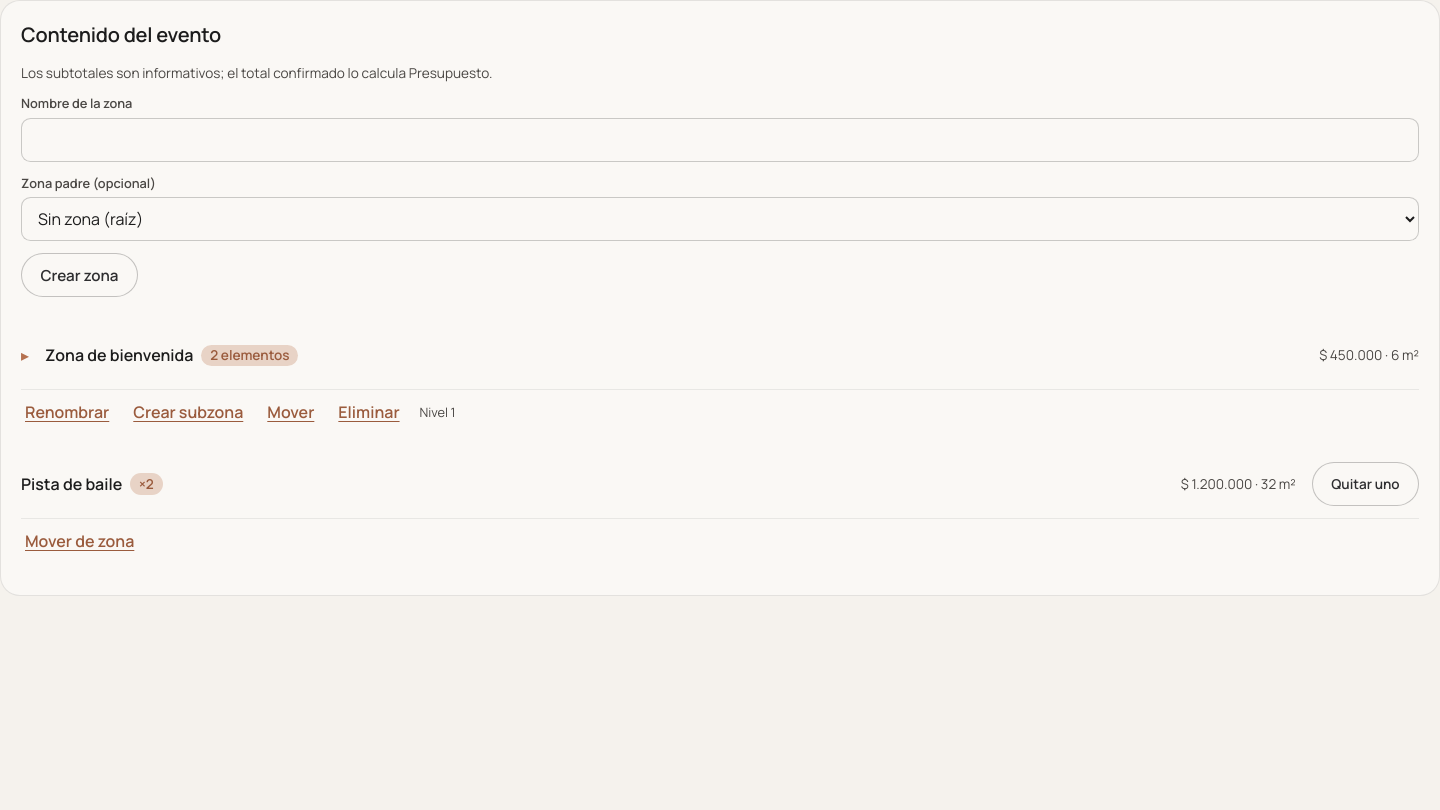
Test case: PackageContents (DECOR-22) › un error de una versión anterior desaparece cuando llegan datos nuevos del servidor
This screenshot has width=1440, height=810.
Click the button with aria-label "Quitar una unidad de Pista de baile" at (1365, 484), box [1312,462,1419,506]
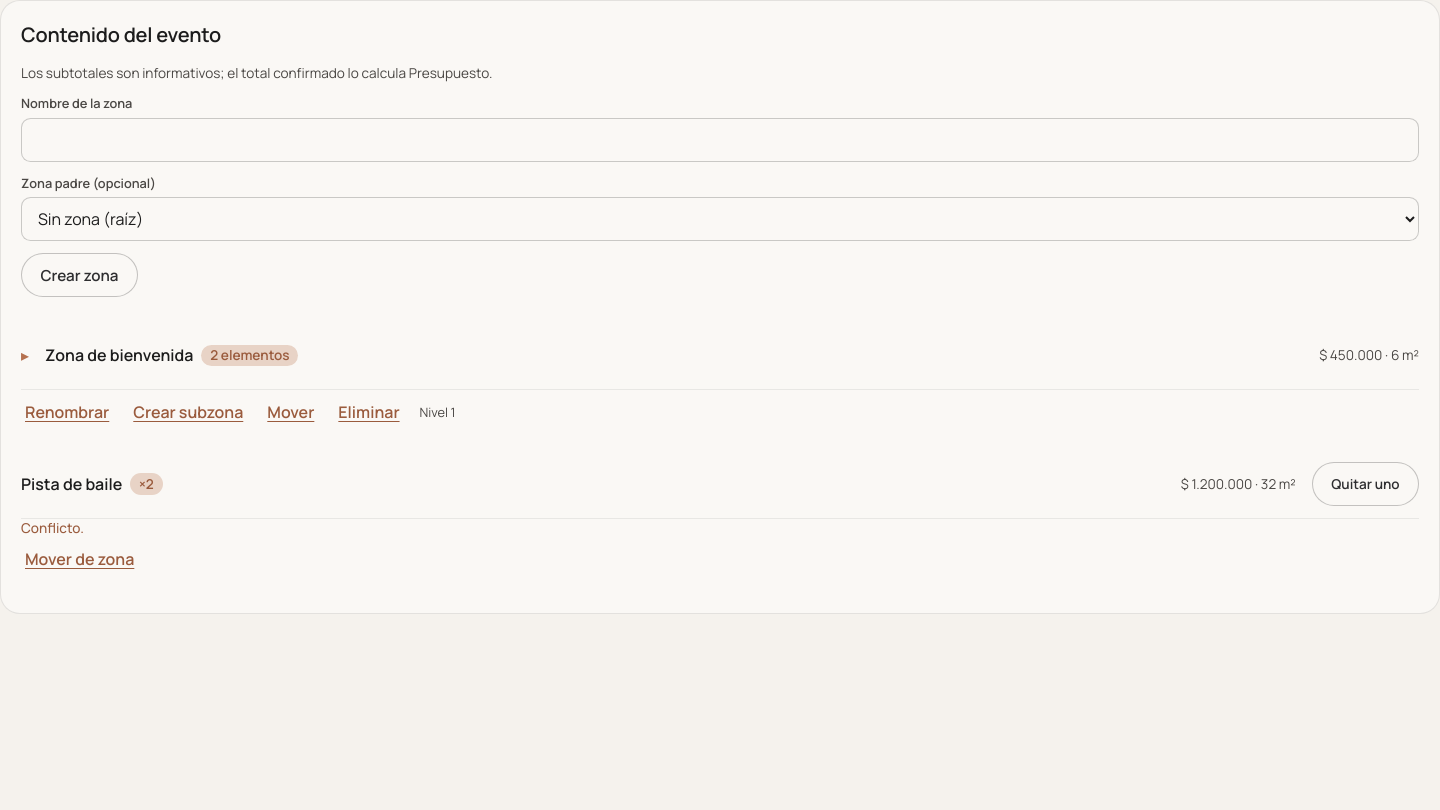
Now the message reads "Conflicto.", box [21,519,84,537]
